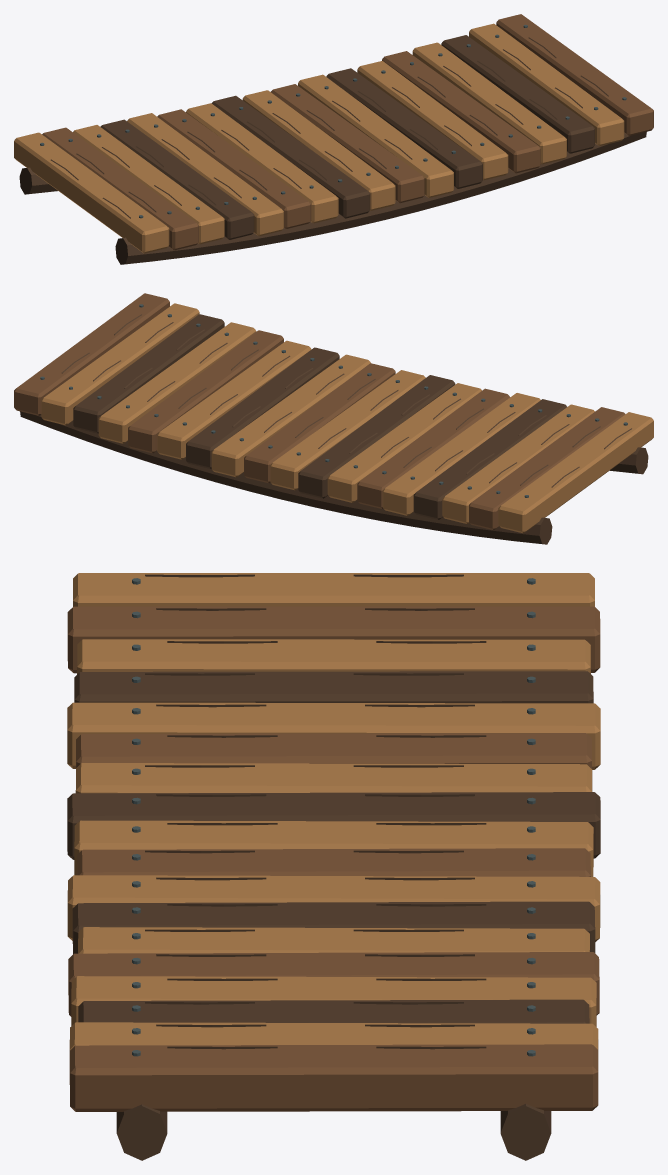
Rendered from BridgeDeck.glb.
3 renders of one model, top to bottom at view 1: azimuth 30°, elevation 25°; view 2: azimuth 150°, elevation 25°; view 3: azimuth 270°, elevation 25°, orthographic. The views are drawn at different scales.
Visible parts, largest first — view 1: BridgeDeck; view 2: BridgeDeck; view 3: BridgeDeck.
Part boxes in pixels (x1=…): BridgeDeck: x1=14, y1=14, x2=653, y2=264; BridgeDeck: x1=14, y1=293, x2=653, y2=544; BridgeDeck: x1=67, y1=573, x2=600, y2=1160.
Bounding box in the file's own units: 4.4 × 0.52 × 1.95.
